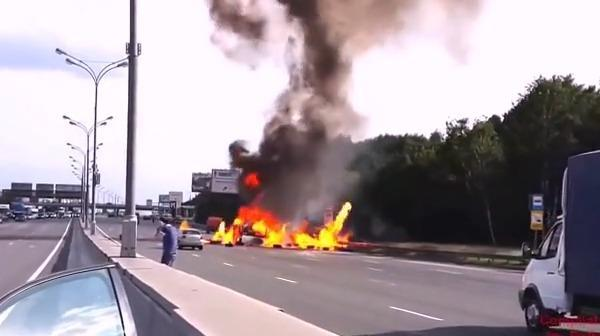fire: (210, 198, 356, 255), (242, 171, 265, 191), (178, 216, 190, 231)
